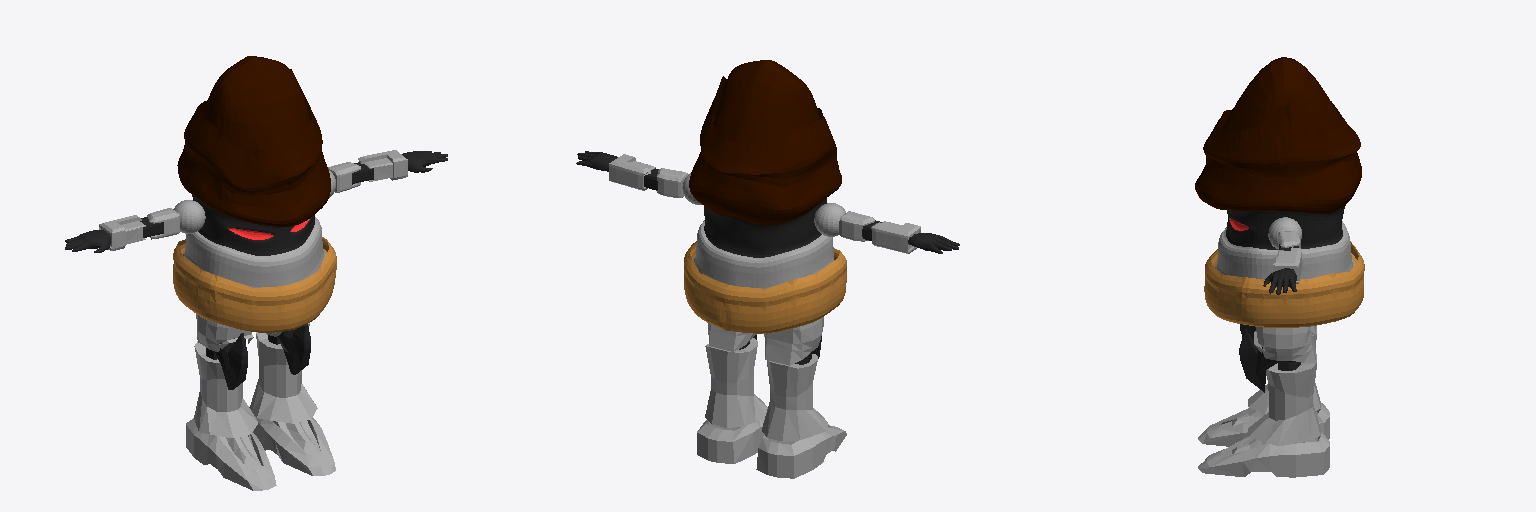
The model's file is takenoko.obj.
The picture shows the model from 3 angles: view 1: azimuth 30°, elevation 25°; view 2: azimuth 150°, elevation 25°; view 3: azimuth 270°, elevation 25°; orthographic projection.
Visible parts, largest first — view 1: polySurface19; view 2: polySurface19; view 3: polySurface19.
Boxes of the visible parts, box(x1,y1,x2,y2) form: polySurface19: box(65, 56, 447, 490); polySurface19: box(576, 60, 959, 478); polySurface19: box(1195, 57, 1364, 477).
Bounding box in the file's own units: 23.25 × 22.87 × 8.94.